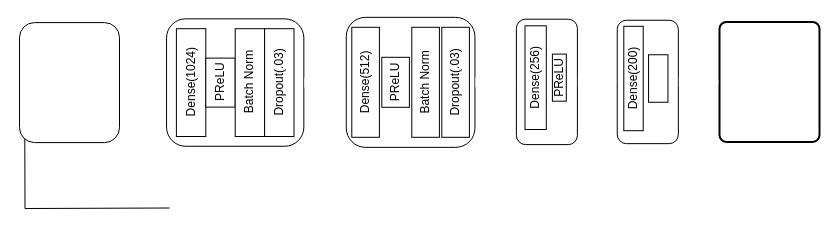
Some shapes in this 838 by 235 pixel diagram are drawn without their labels. Here are the shapes that lost their labels. From the top down, the centre of each, then its label:
point (69, 82): Lattice type Material type Thickness Radius Periodicity
point (658, 78): Sigmoid
point (769, 81): 200-point transmission spectrum
